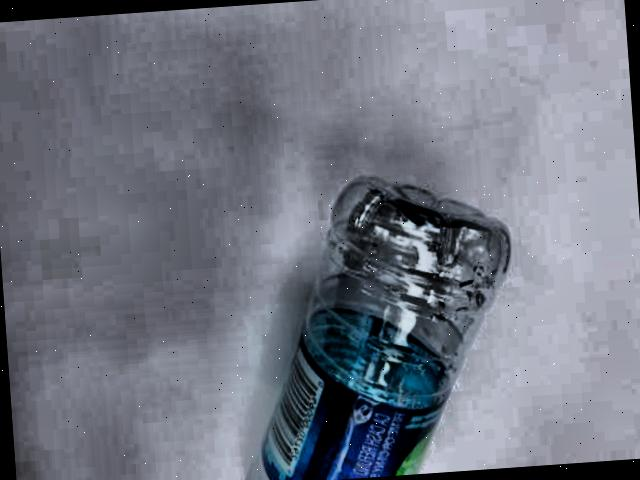Bottles: (203, 143, 537, 480)
